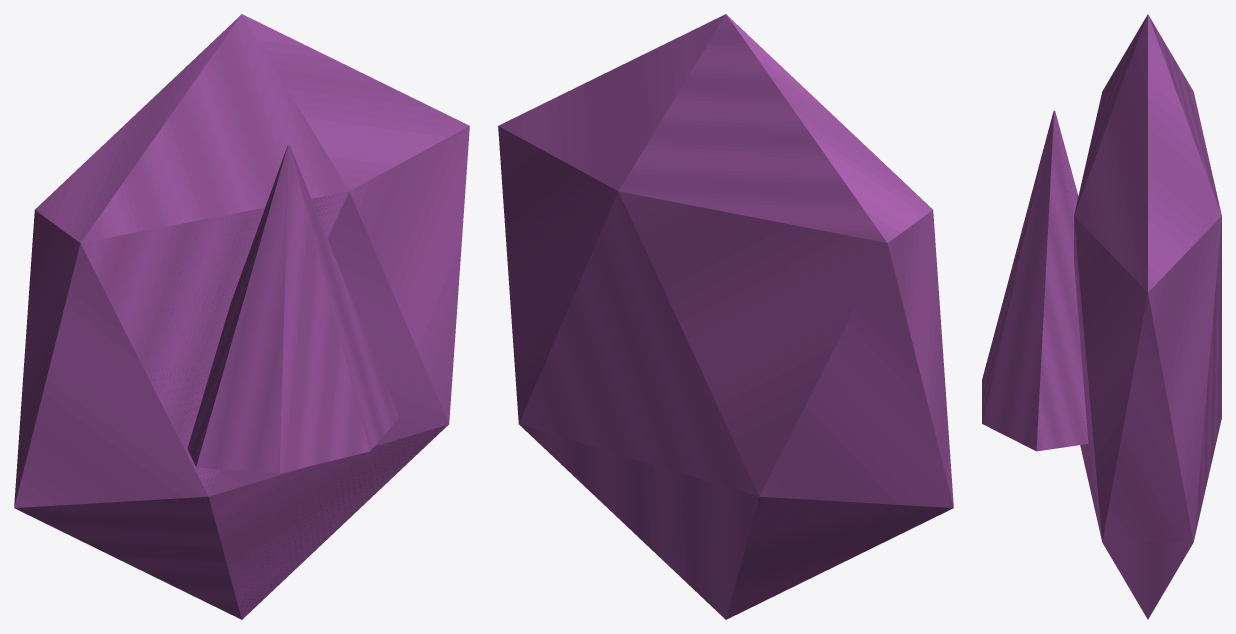
Rendered from ember_burst.glb.
3 renders of one model, left to right at view 1: azimuth 30°, elevation 25°; view 2: azimuth 150°, elevation 25°; view 3: azimuth 270°, elevation 25°, orthographic.
Visible parts, largest first — view 1: gear_ember_burst; view 2: gear_ember_burst; view 3: gear_ember_burst.
Part boxes in pixels (x1,y1,x2,y2): gear_ember_burst: [14, 14, 469, 619]; gear_ember_burst: [498, 14, 953, 619]; gear_ember_burst: [982, 14, 1221, 619].
Size of the model in its own units: 0.3935 by 0.5 by 0.1793.
Materials: 1 (1 with a texture image).
